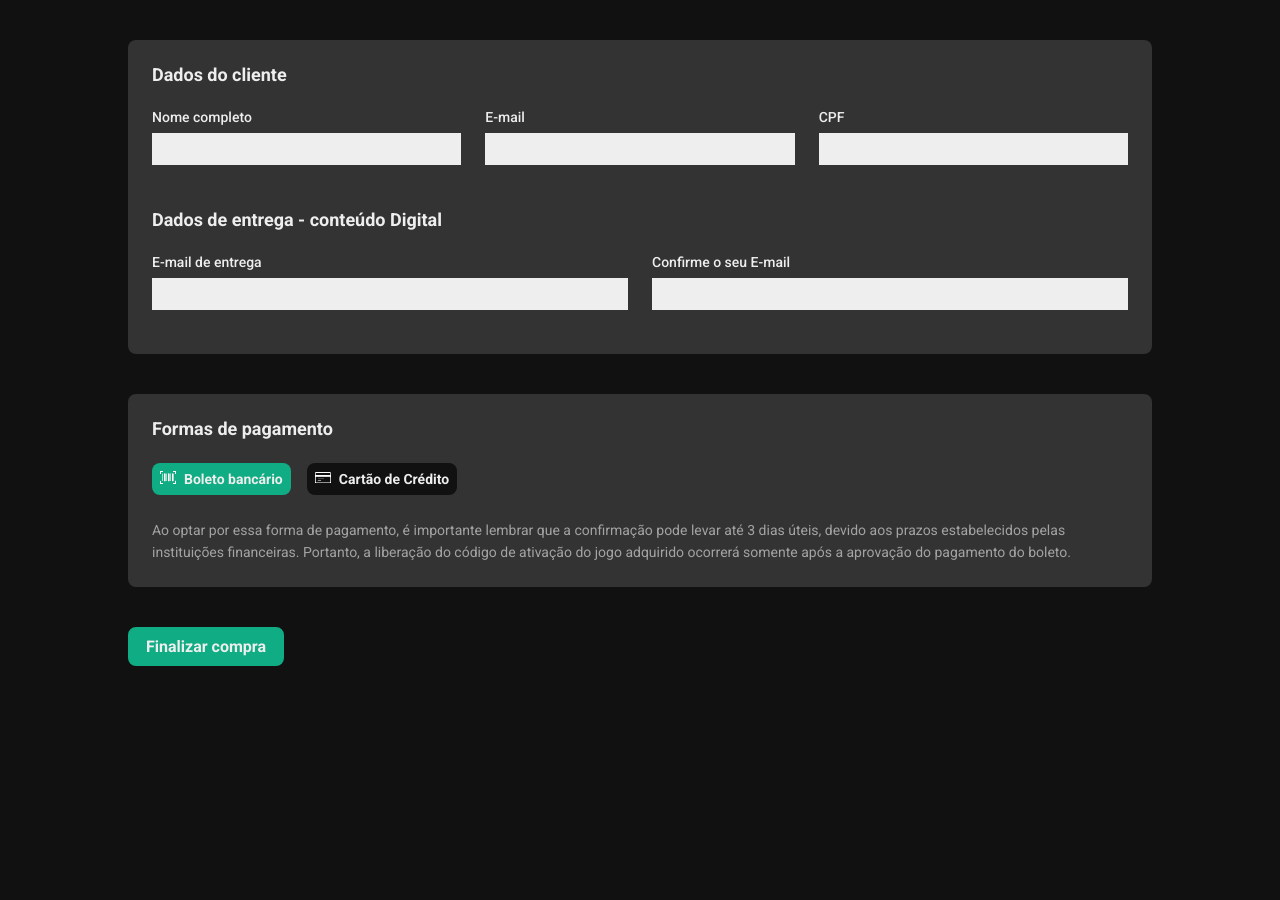
Test: Checkout — seleção de método de pagamento › exibe campos de cartão ao clicar em Cartão de Crédito
The width and height of the screenshot is (1280, 900).
Click the button "Cartão de Crédito" at (382, 479), box [307, 463, 457, 495]
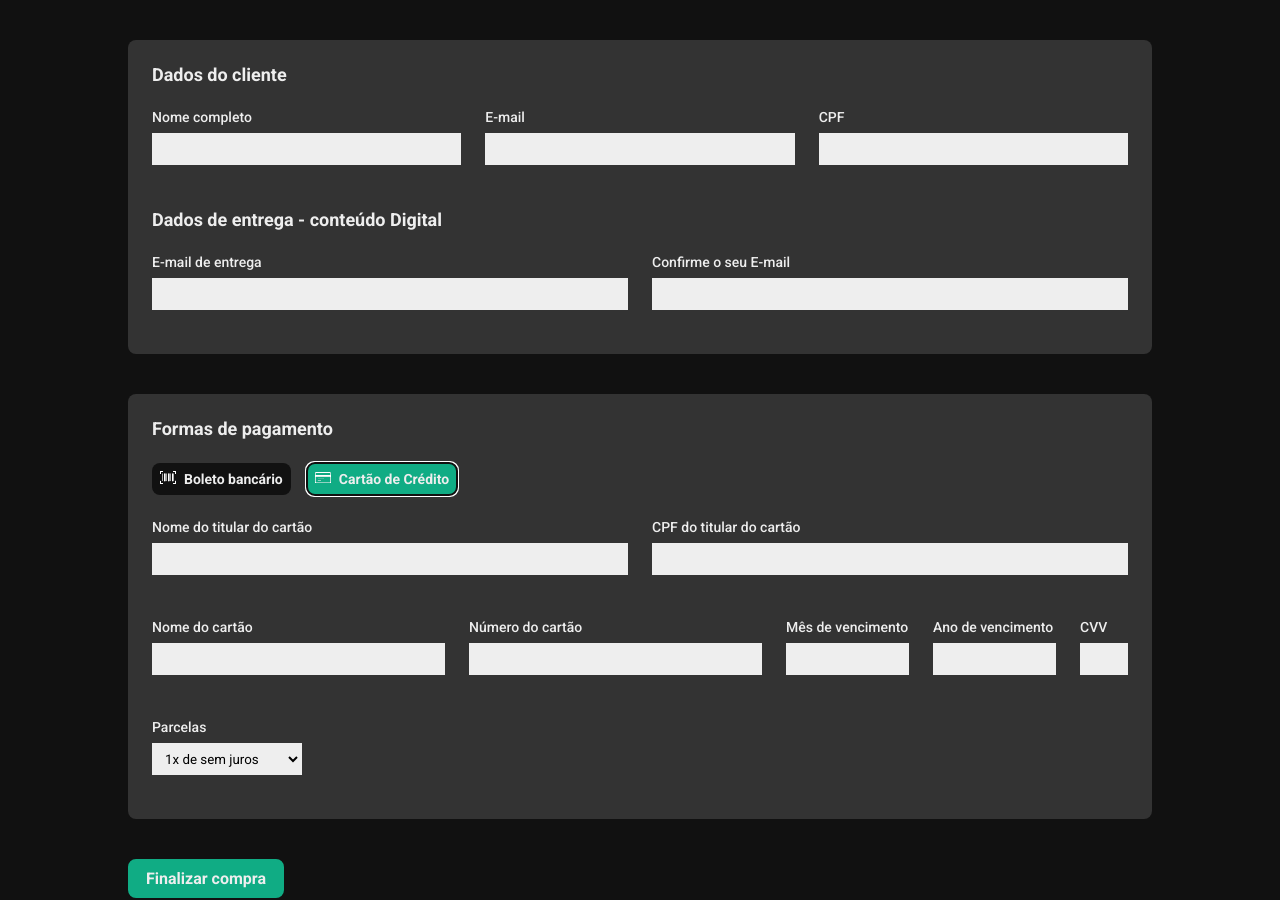
Now the field labelled "Nome do titular do cartão" is shown, box [152, 543, 628, 575]
Now the field labelled "Número do cartão" is shown, box [469, 643, 762, 675]
Now the field labelled "CVV" is shown, box [1080, 643, 1128, 675]
